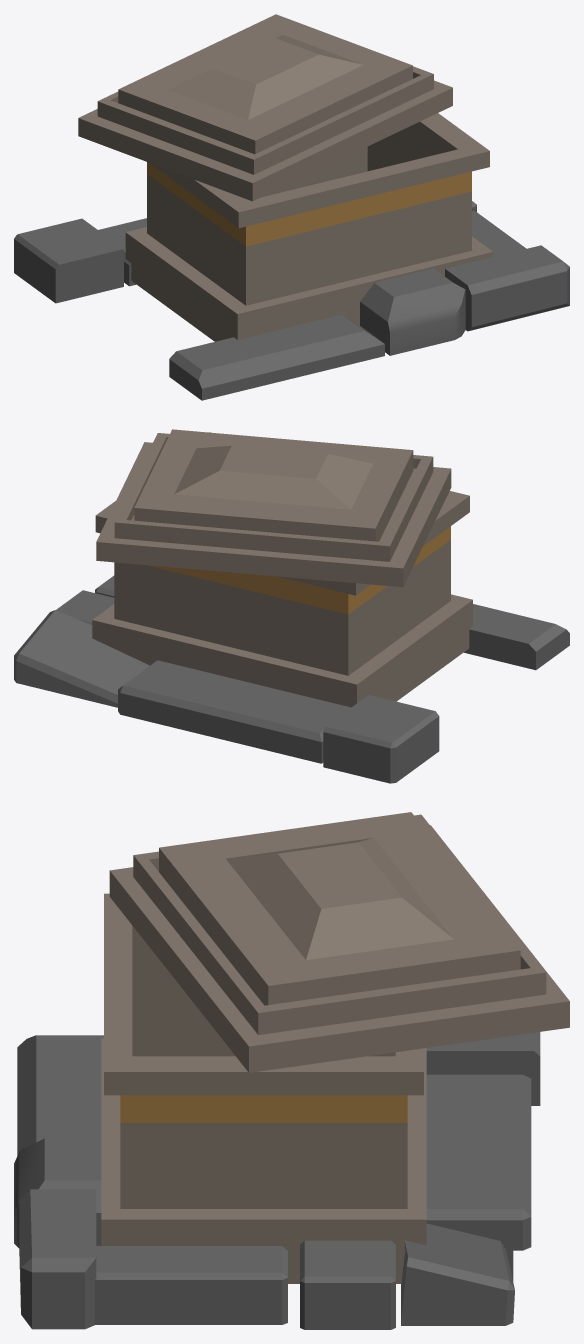
The model's file is Tomb stone Finished.fbx.
The picture shows the model from 3 angles, top to bottom: view 1: azimuth 30°, elevation 25°; view 2: azimuth 150°, elevation 25°; view 3: azimuth 270°, elevation 25°; orthographic projection. The views are drawn at different scales.
Parts seen in each view (by area): view 1: pCube12; view 2: pCube12; view 3: pCube12.
Part boxes in pixels (bbox=[...]): pCube12: bbox=[14, 14, 569, 400]; pCube12: bbox=[14, 429, 569, 783]; pCube12: bbox=[14, 812, 569, 1329].
Bounding box in the file's own units: 9.3 × 4.99 × 8.03.
